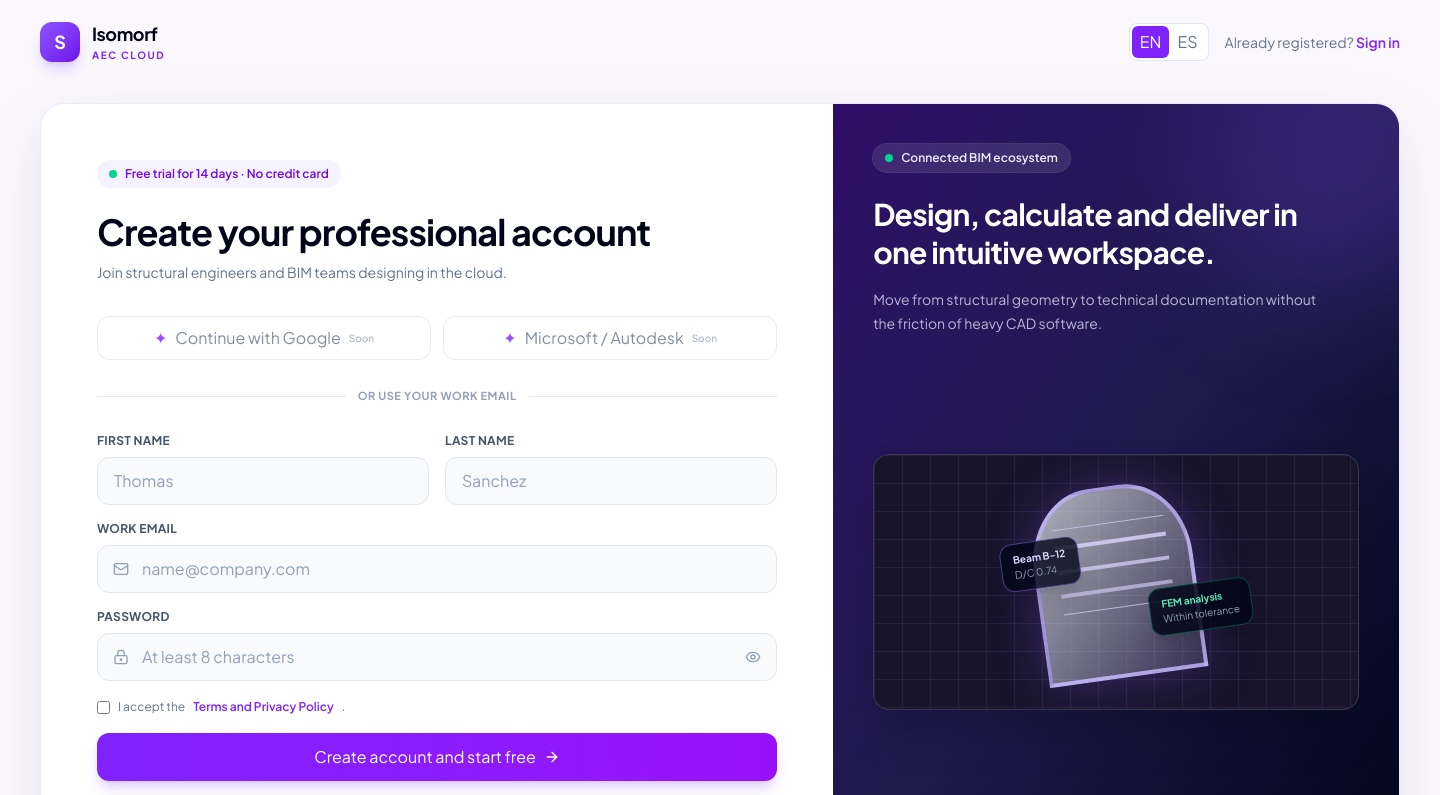
Test: AuthForm › shows the error message when registration fails
In the field named "first_name": [263, 480] box [97,456,429,504], type "Alice"
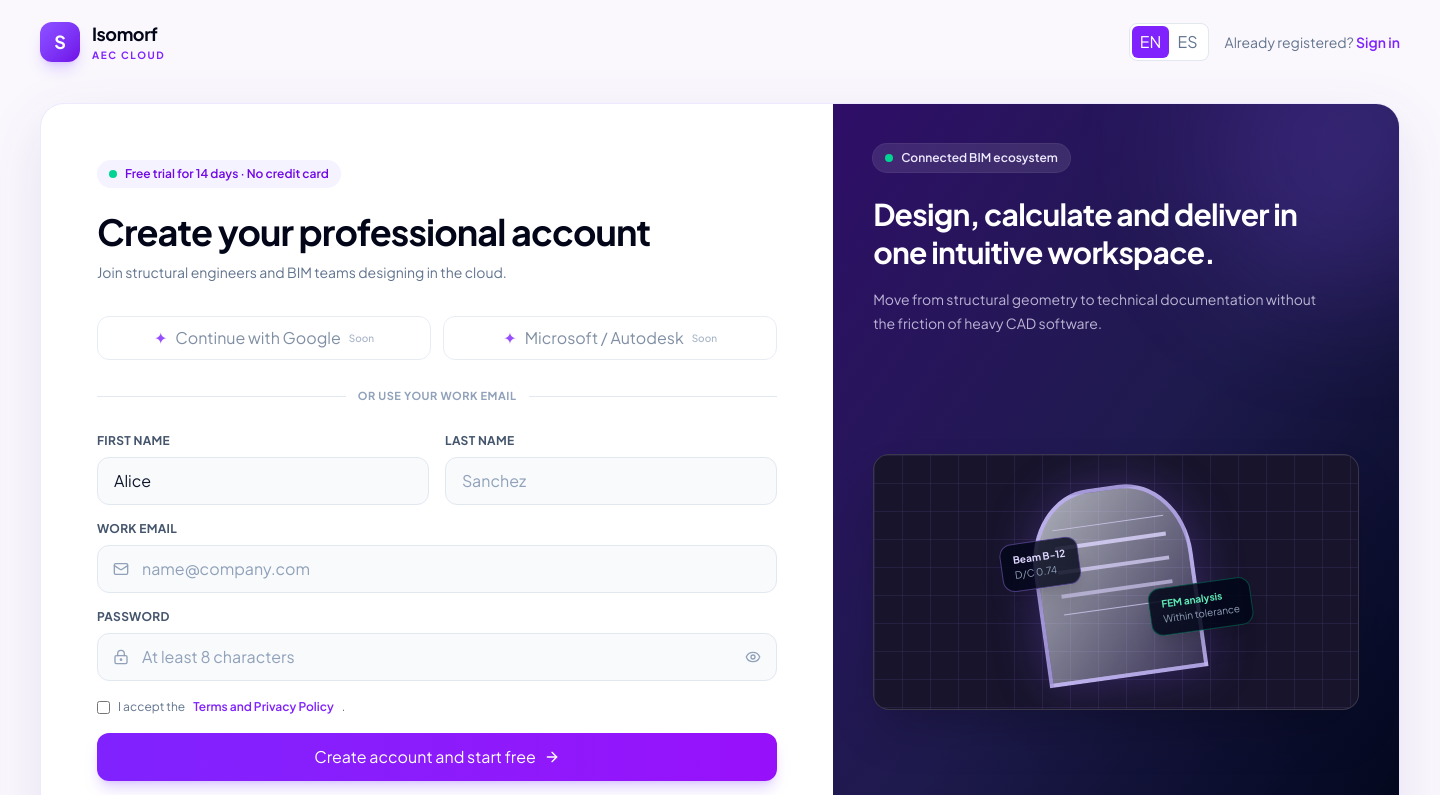
In the field named "last_name": [611, 480] box [445,456,777,504], type "Engineer"
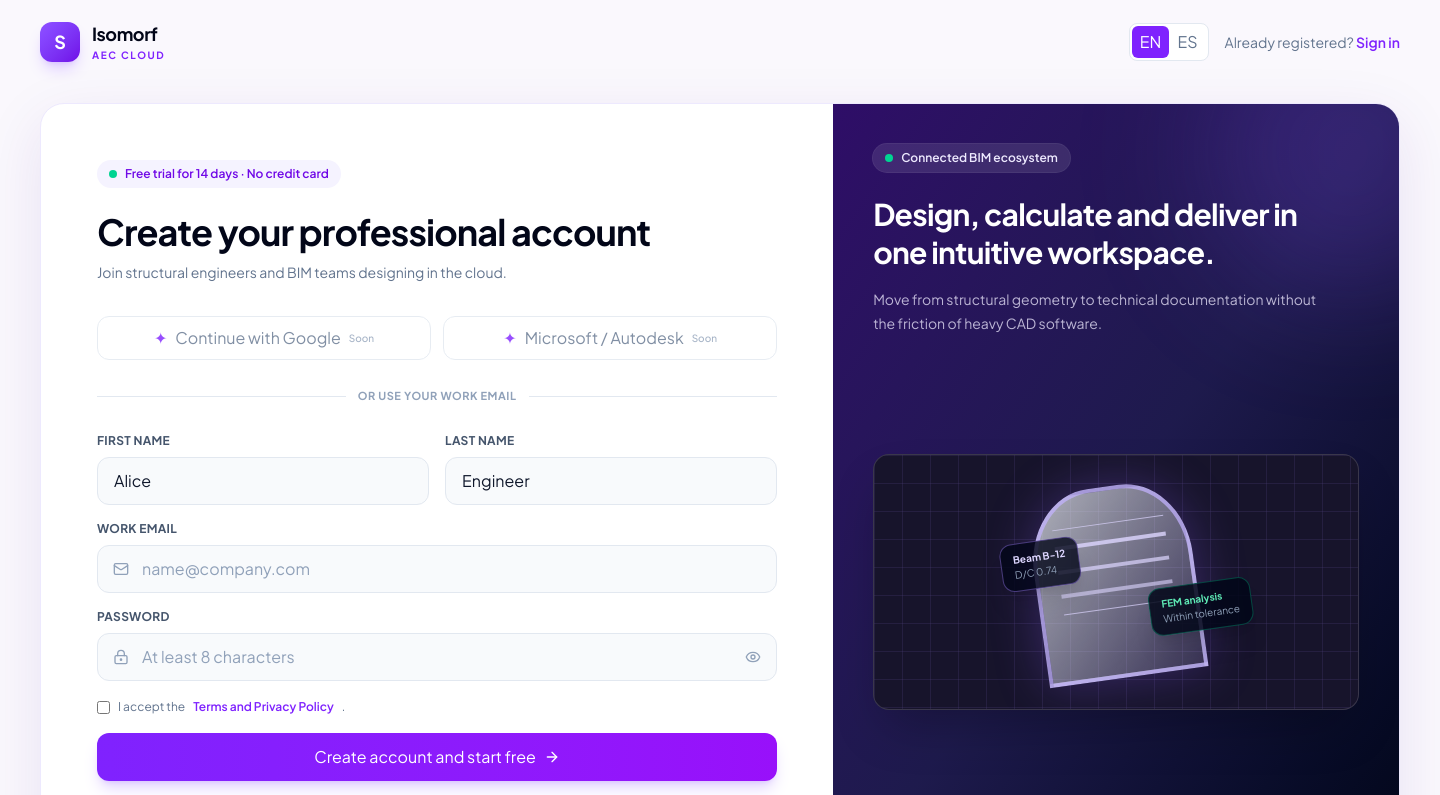
In the field named "email": [437, 568] box [97,544,777,592], type "alice@example.com"
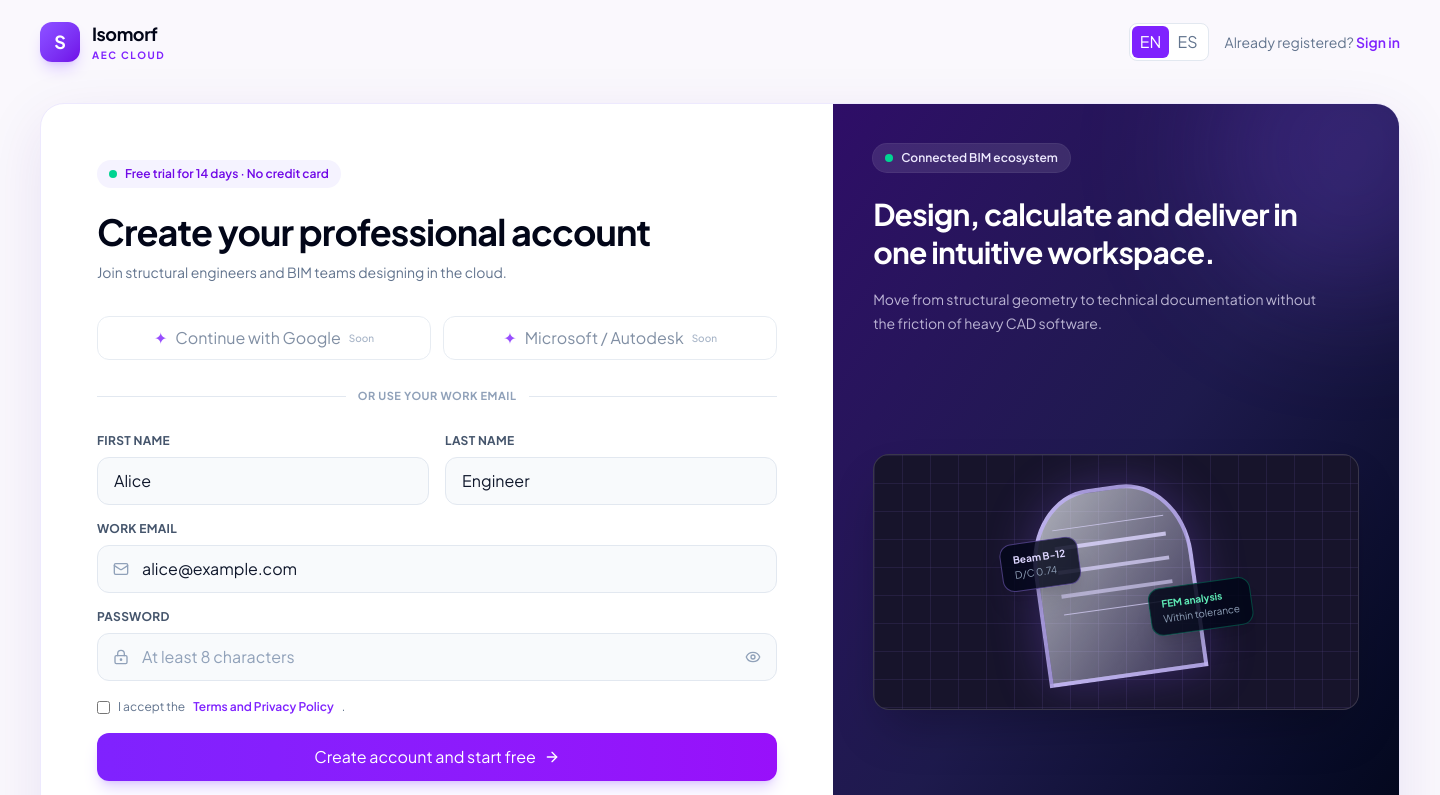
In the password field named "password": [437, 656] box [97,632,777,680], type "super-secret-1"
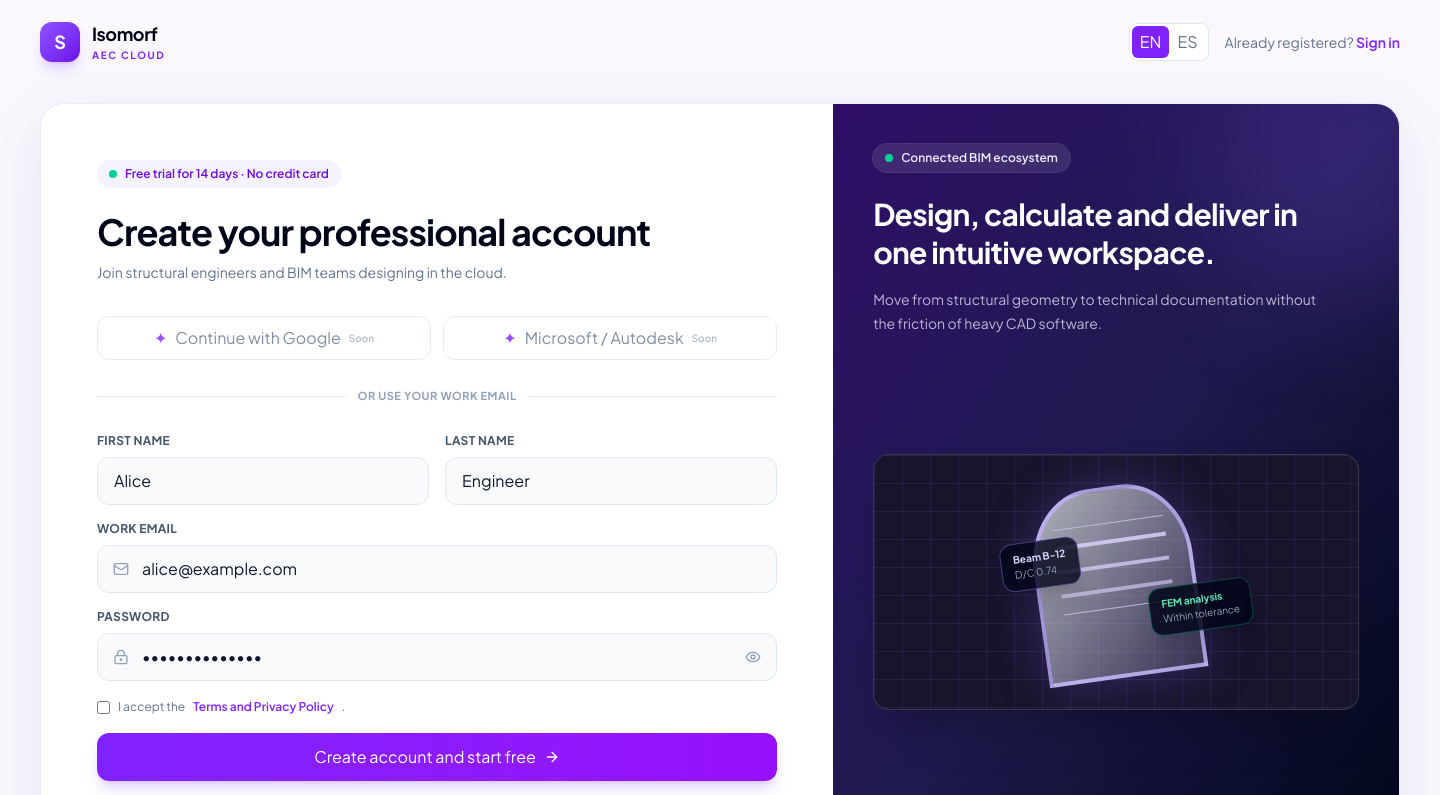
Submit the form, box [97,432,777,780]
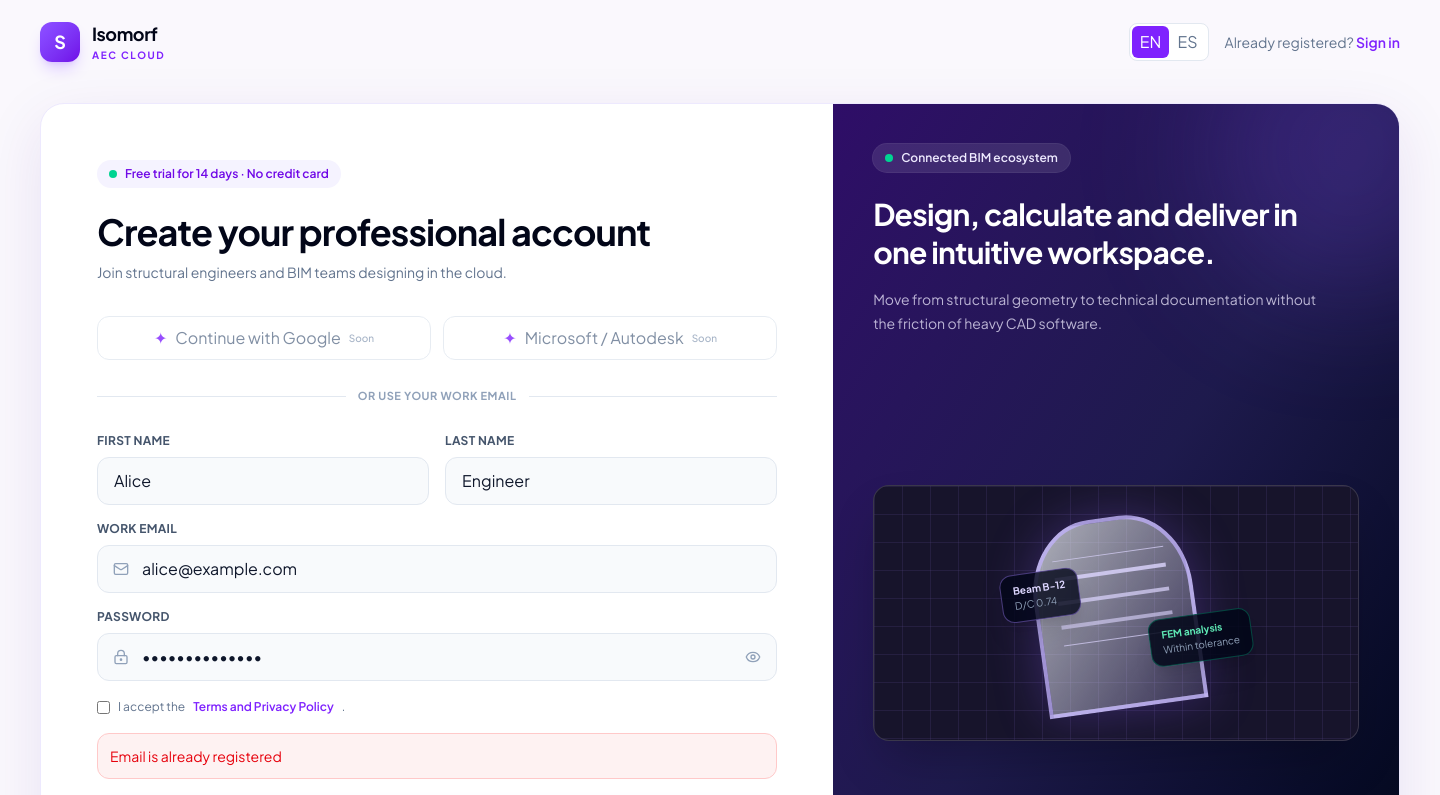
Result: the text "Email is already registered" is shown at [97,732,777,778]
